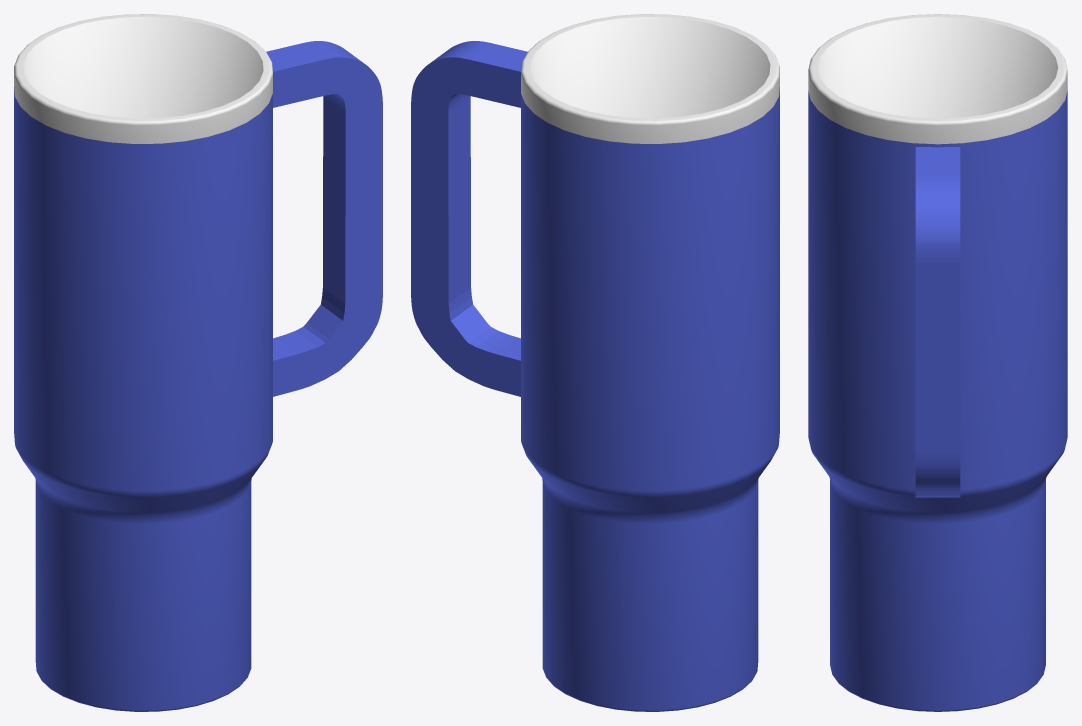
File: tumbler1_iris_nolid-mRmxT2iH.glb
The picture shows the model from 3 angles, left to right: view 1: azimuth 30°, elevation 25°; view 2: azimuth 150°, elevation 25°; view 3: azimuth 270°, elevation 25°; orthographic projection.
Parts seen in each view (by area): view 1: Main Tumbler, Tumbler Handle; view 2: Main Tumbler, Tumbler Handle; view 3: Main Tumbler, Tumbler Handle.
Boxes of the visible parts, x1,y1,x2,y2 form: Main Tumbler: (14, 14, 272, 711); Tumbler Handle: (266, 41, 382, 396); Main Tumbler: (521, 14, 779, 711); Tumbler Handle: (411, 41, 527, 396); Main Tumbler: (808, 14, 1067, 711); Tumbler Handle: (915, 147, 960, 497).
Size of the model in its own units: 2.1 by 3.54 by 1.39.
